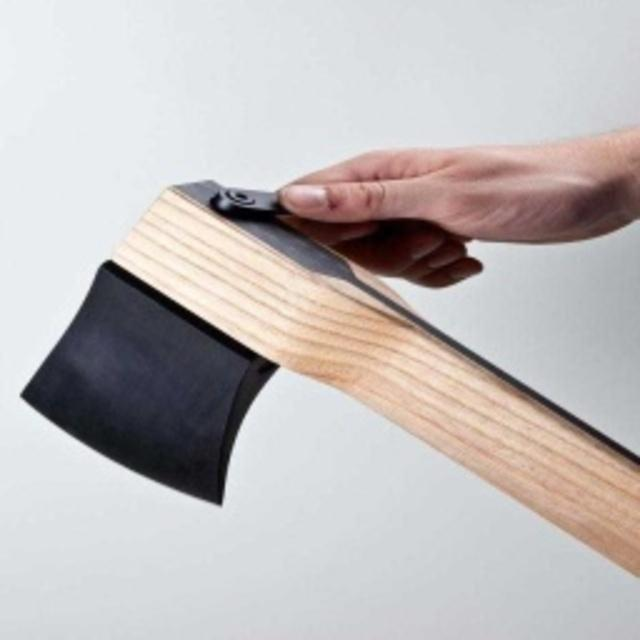ax: (18, 172, 640, 591)
